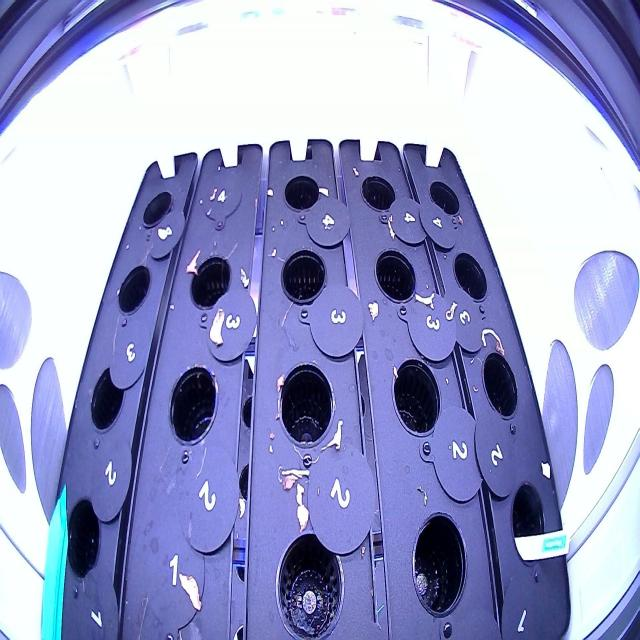empty_pod: (270, 522, 354, 638), (140, 512, 213, 638), (410, 503, 472, 624), (274, 356, 340, 454), (386, 348, 445, 442), (164, 359, 220, 450), (506, 472, 552, 573), (59, 488, 104, 591), (275, 242, 330, 314), (478, 343, 522, 425), (367, 238, 419, 306), (185, 249, 232, 319), (447, 242, 492, 310), (87, 358, 126, 436), (200, 165, 244, 230), (114, 258, 153, 323), (423, 172, 464, 230), (279, 164, 323, 218), (355, 169, 399, 217), (140, 184, 174, 235)
